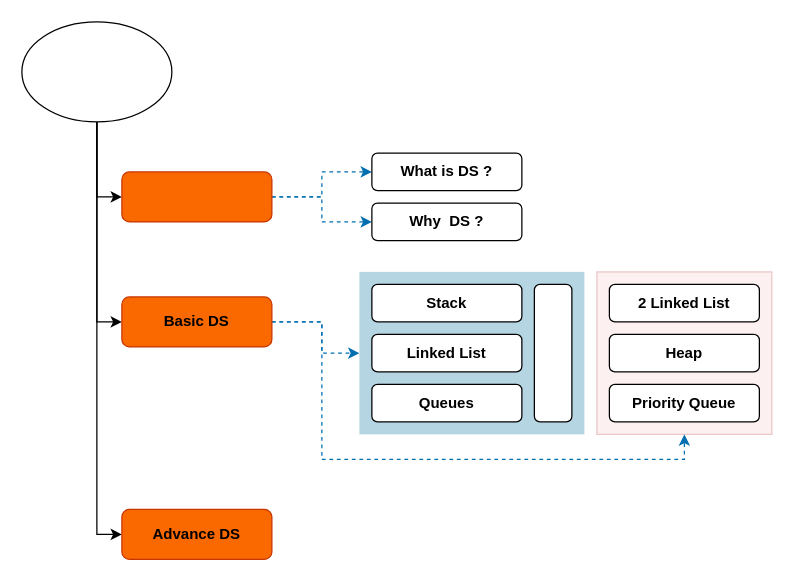
Some shapes in this 794 by 581 pixel diagram are drawn without their labels. Here are the shapes that lost their labels. From the top down, the centre of each, then its label:
At [96,71]: "Data Structure".
At [196,196]: "Fundamentals".
At [552,352]: "Hash Table".
